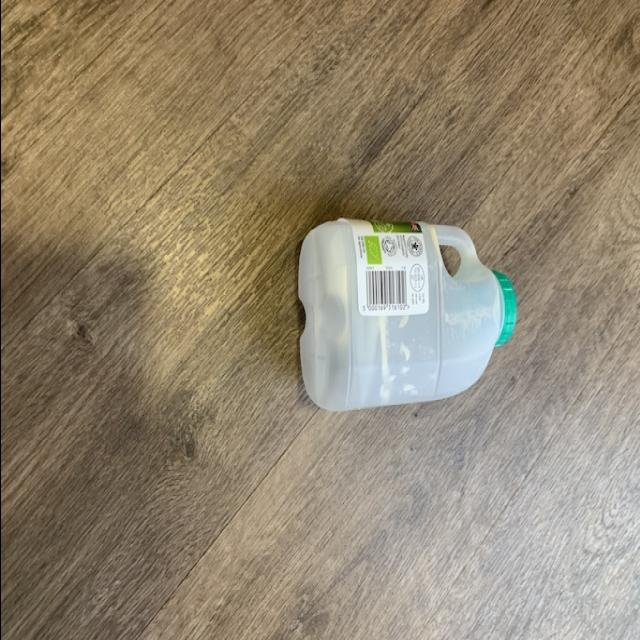litter: (296, 214, 518, 416)
